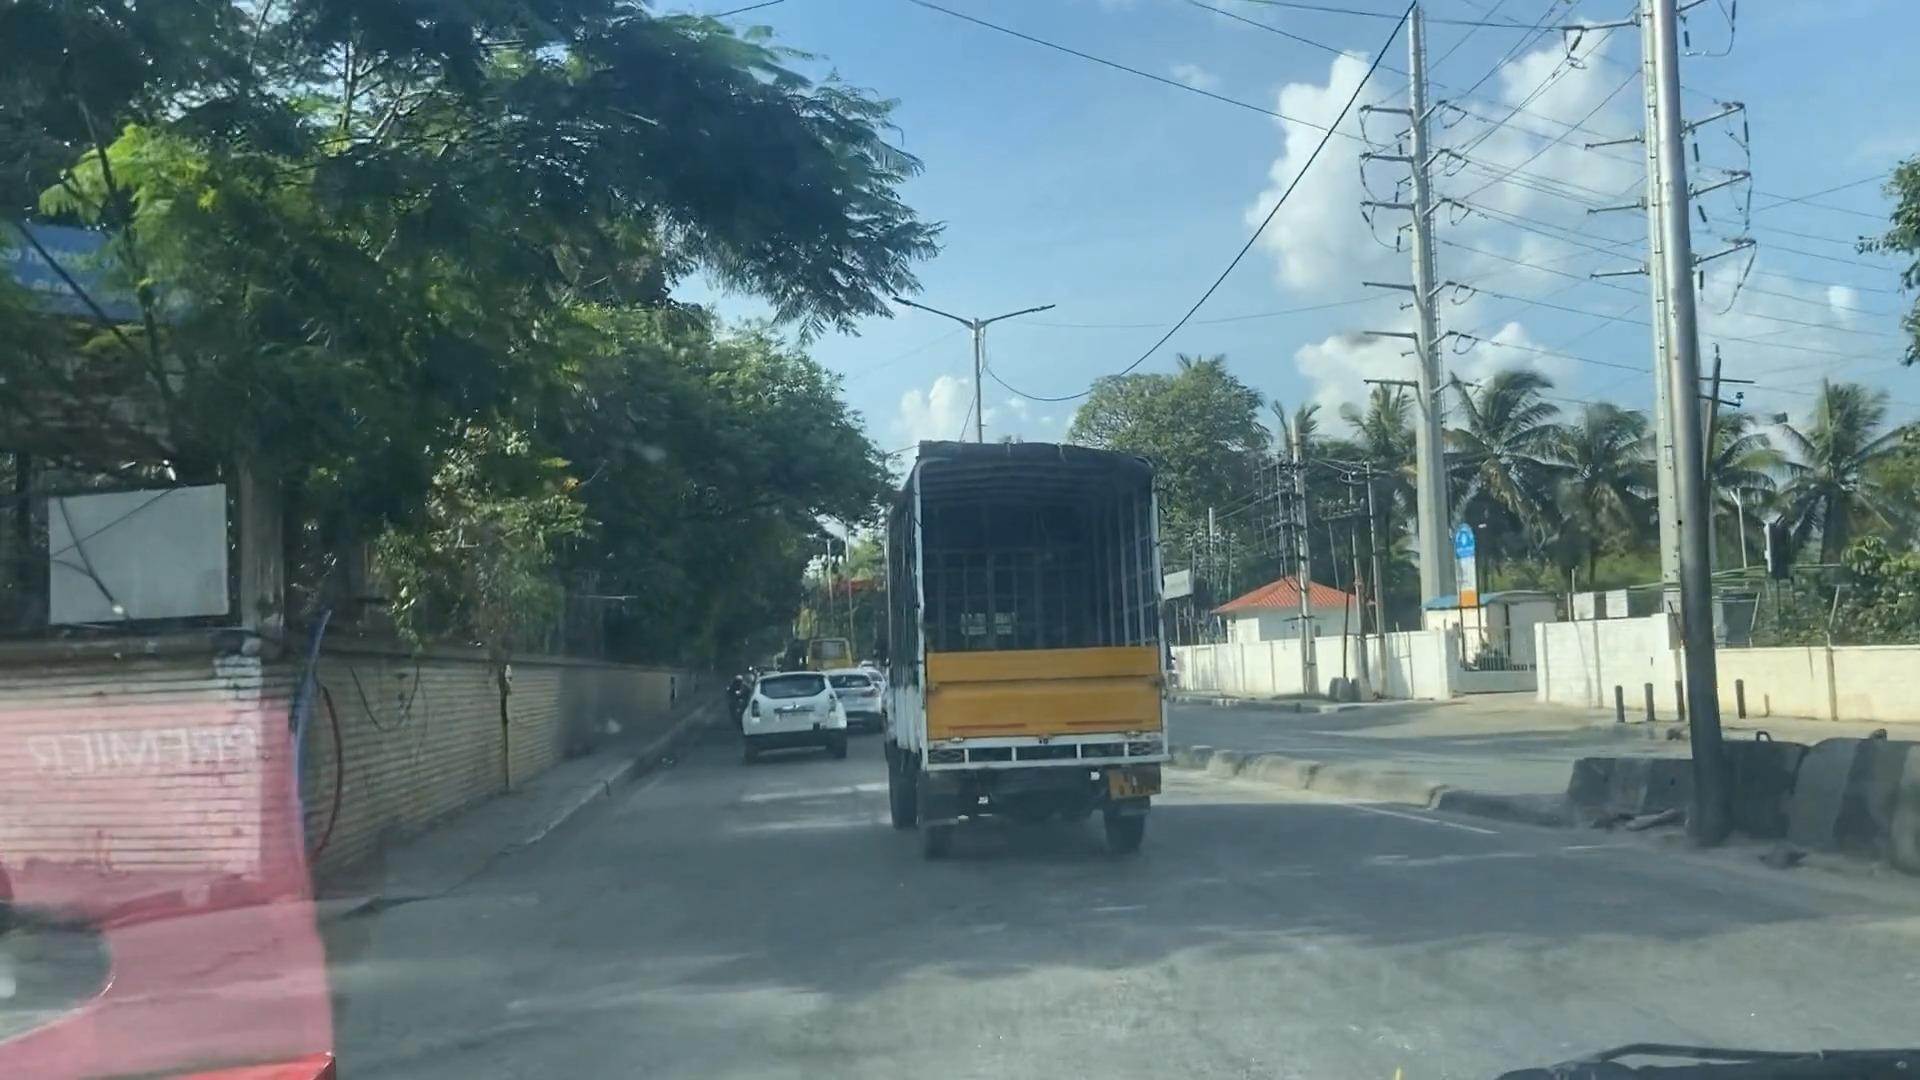HMV: (897, 436, 1163, 864), (104, 889, 413, 1025)
LMV: (737, 670, 843, 754)
